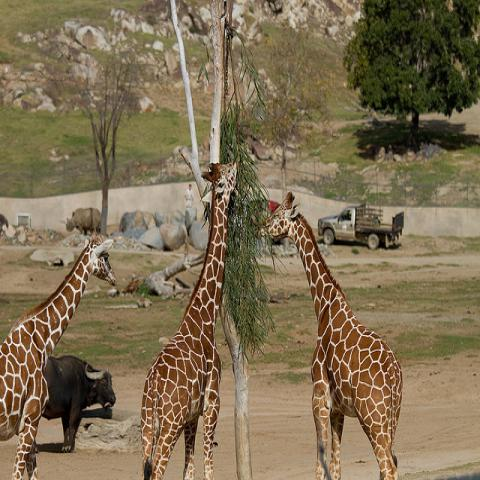truck: (318, 202, 404, 250)
